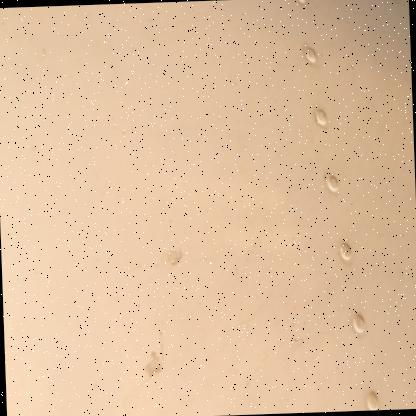Nocrack: (0, 1, 405, 402)
